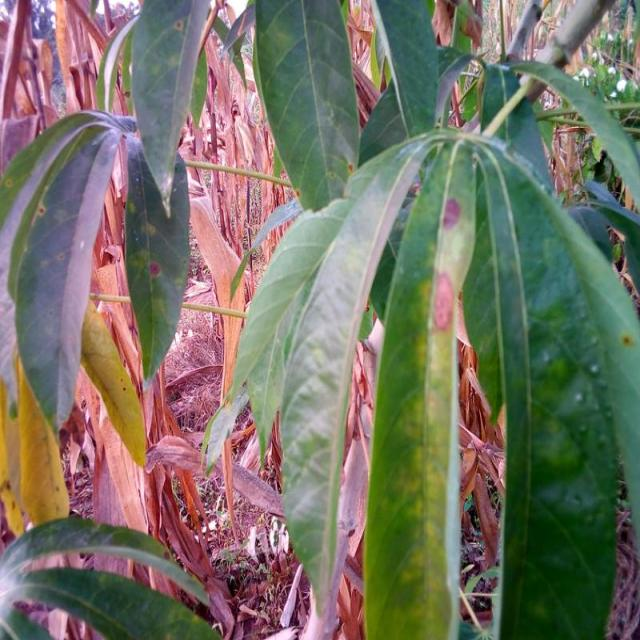cassava leaf: (362, 133, 478, 638), (0, 108, 128, 434), (251, 0, 360, 212), (122, 130, 192, 391)
